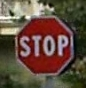stop: (14, 14, 73, 77)
